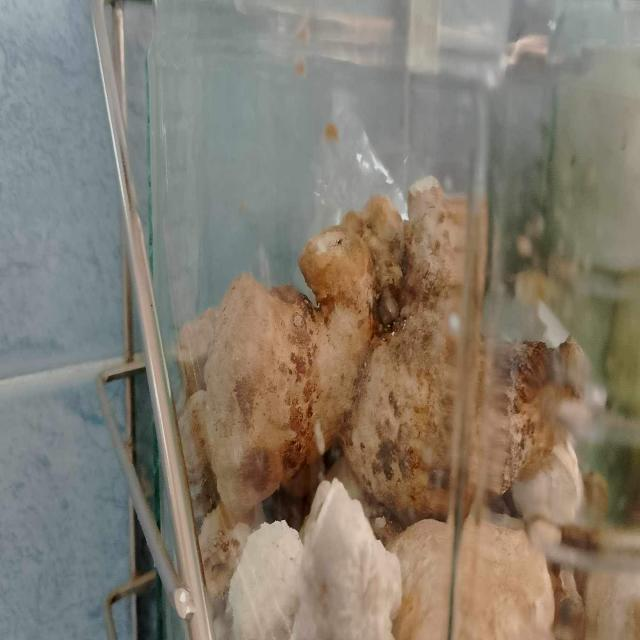General: (86, 2, 635, 636)
Pathological: (174, 173, 592, 541)
Sharps: (89, 1, 214, 637), (442, 79, 493, 636)
